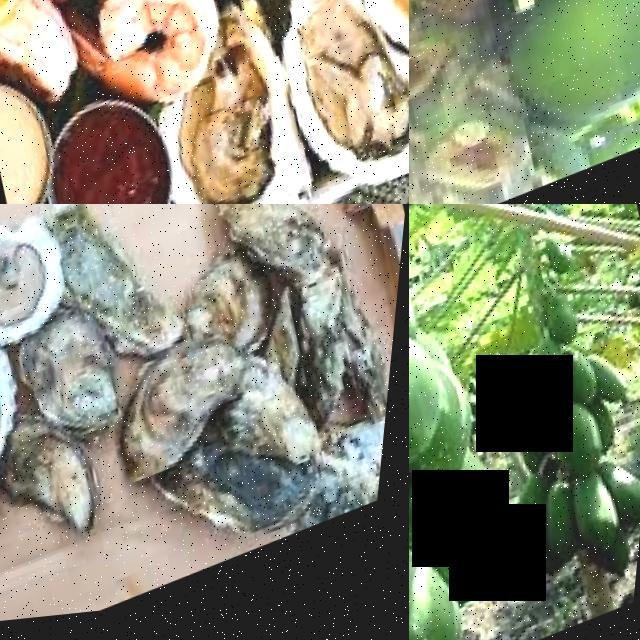lemon: (0, 0, 55, 35)
oysters: (267, 0, 409, 204), (158, 57, 344, 204), (105, 332, 270, 493), (0, 393, 122, 570), (13, 300, 145, 458), (203, 204, 353, 327), (0, 204, 91, 367), (0, 356, 33, 554)
pawpaw: (493, 0, 640, 159), (409, 459, 526, 622), (409, 309, 474, 493), (409, 539, 497, 640), (552, 406, 622, 500), (570, 478, 636, 569), (538, 489, 601, 582), (529, 344, 585, 419), (506, 483, 560, 558), (506, 375, 556, 451), (564, 348, 612, 423), (542, 295, 592, 361), (606, 459, 640, 540)
shrimp: (76, 0, 236, 116)
